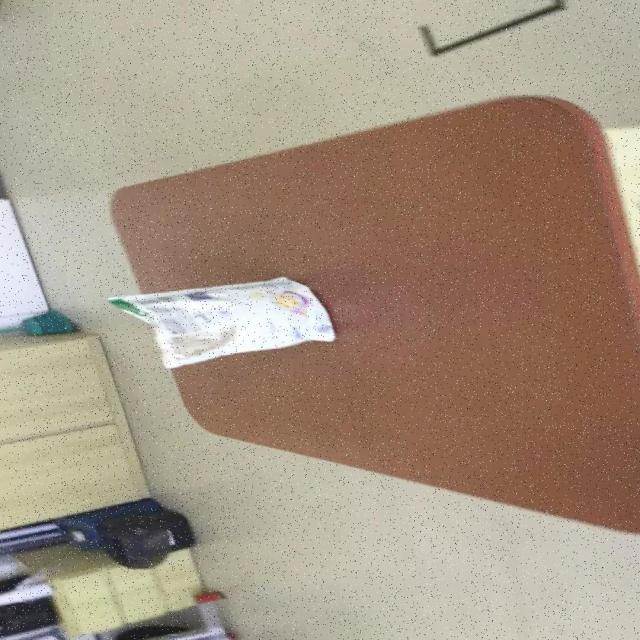CornFlakes: (105, 275, 335, 369)
